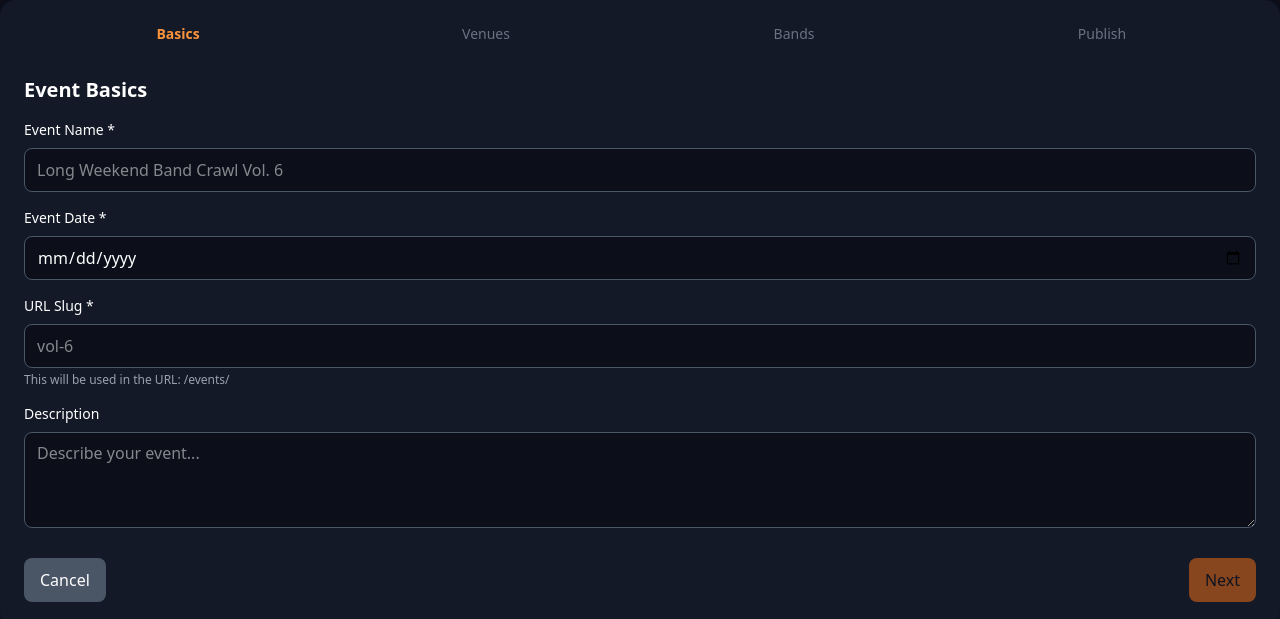
Test: EventWizard › keeps added venues visible when moving between steps
Type "Late Night Crawl" into the field labelled "Event Name *".
click(640, 170); type("Late Night Crawl")  # box [24,148,1256,192]
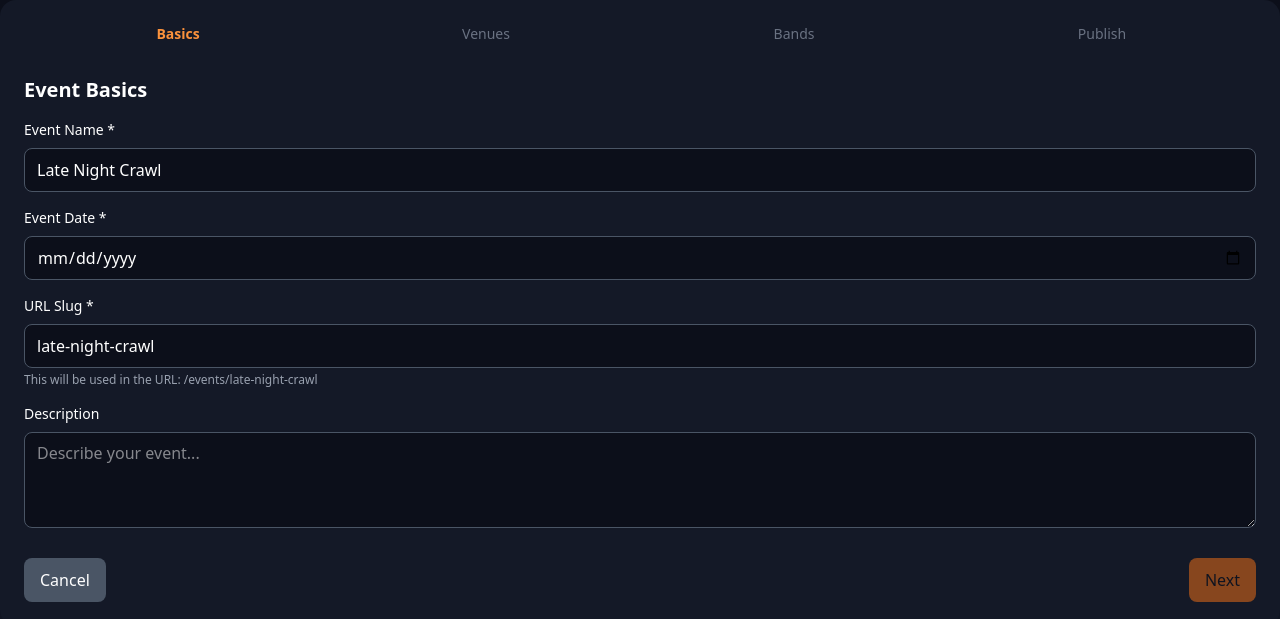
Type "2026-08-03" into the date field labelled "Event Date *".
click(640, 258); type("2026-08-03")  # box [24,236,1256,280]
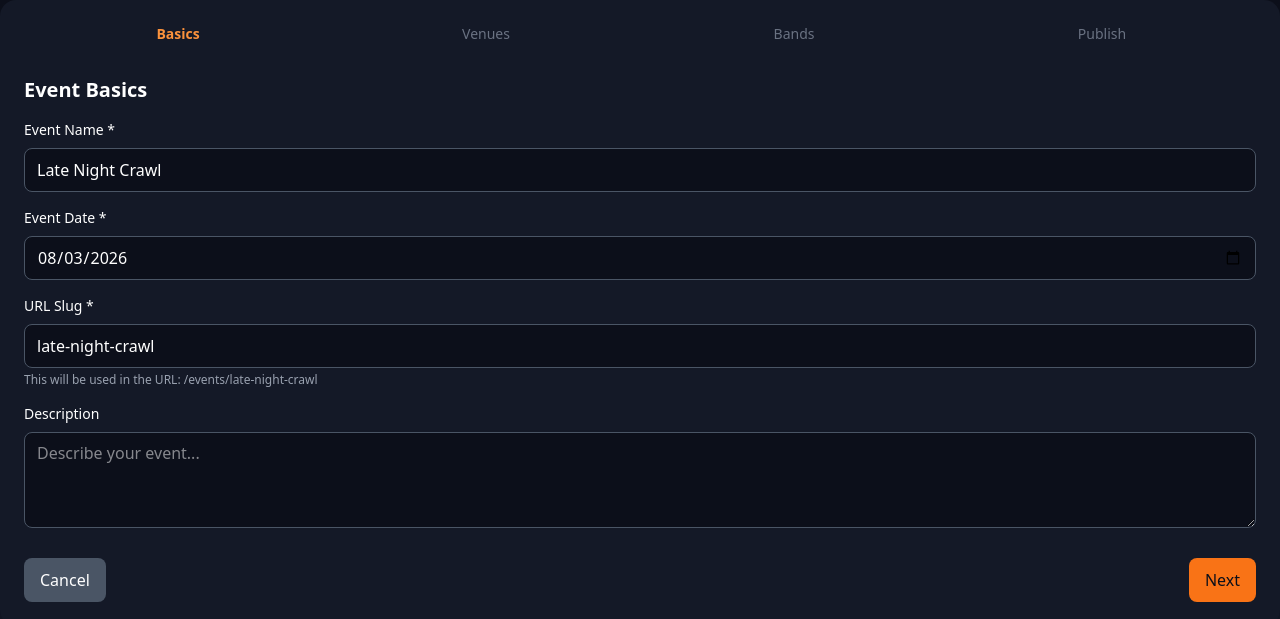
Click the button "Next".
click(1222, 580)  # box [1189,558,1256,602]
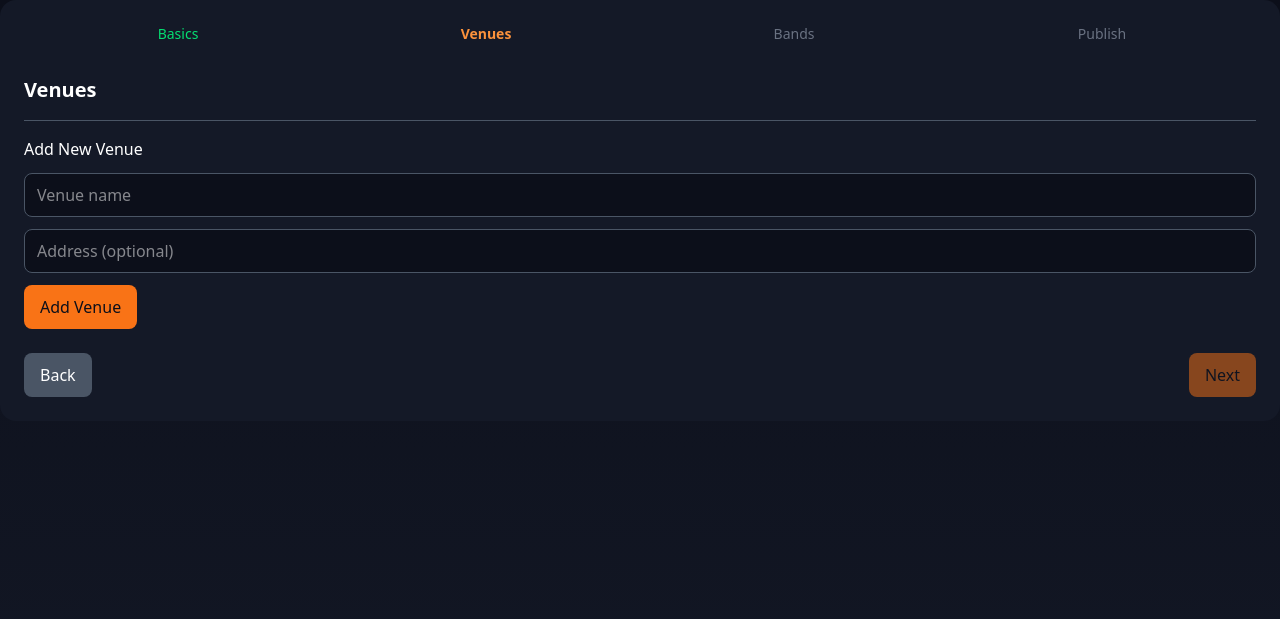
Type "Crystal Ballroom" into the field with placeholder "Venue name".
click(640, 195); type("Crystal Ballroom")  # box [24,173,1256,217]
Type "1332 W Burnside St" into the field with placeholder "Address (optional)".
click(640, 251); type("1332 W Burnside St")  # box [24,229,1256,273]
Click the button "Add Venue".
click(81, 307)  # box [24,285,137,329]
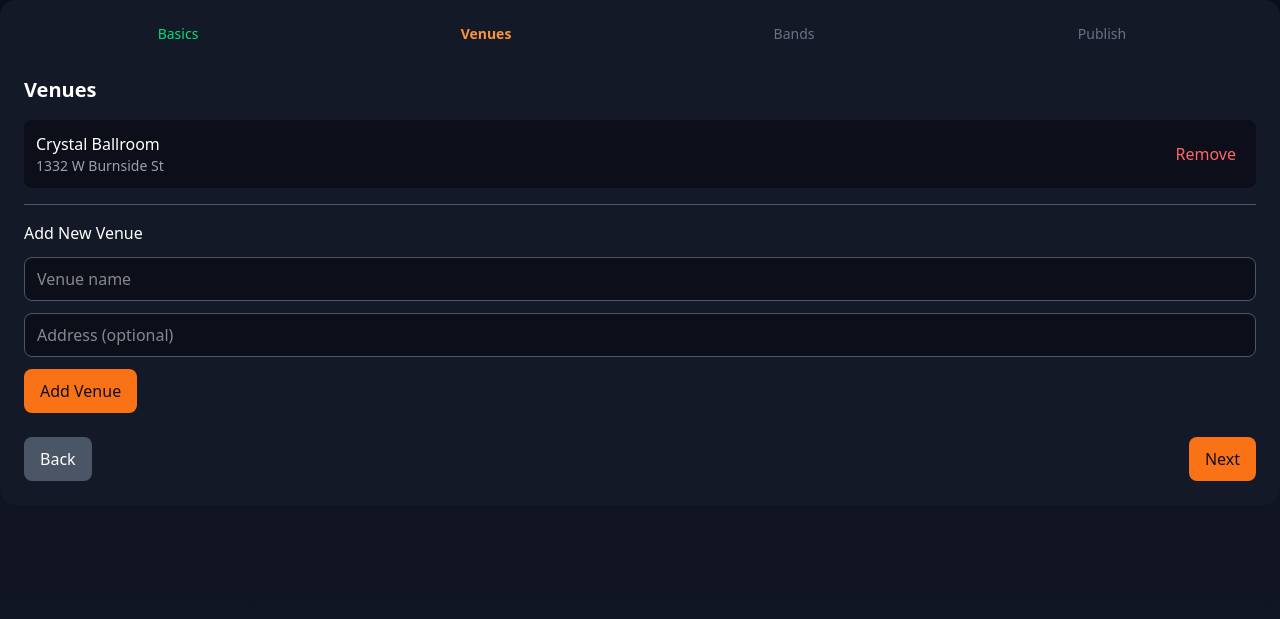
Result: the text "Crystal Ballroom" is shown at [36,132,164,156]
Click the button "Next".
click(1222, 459)  # box [1189,437,1256,481]
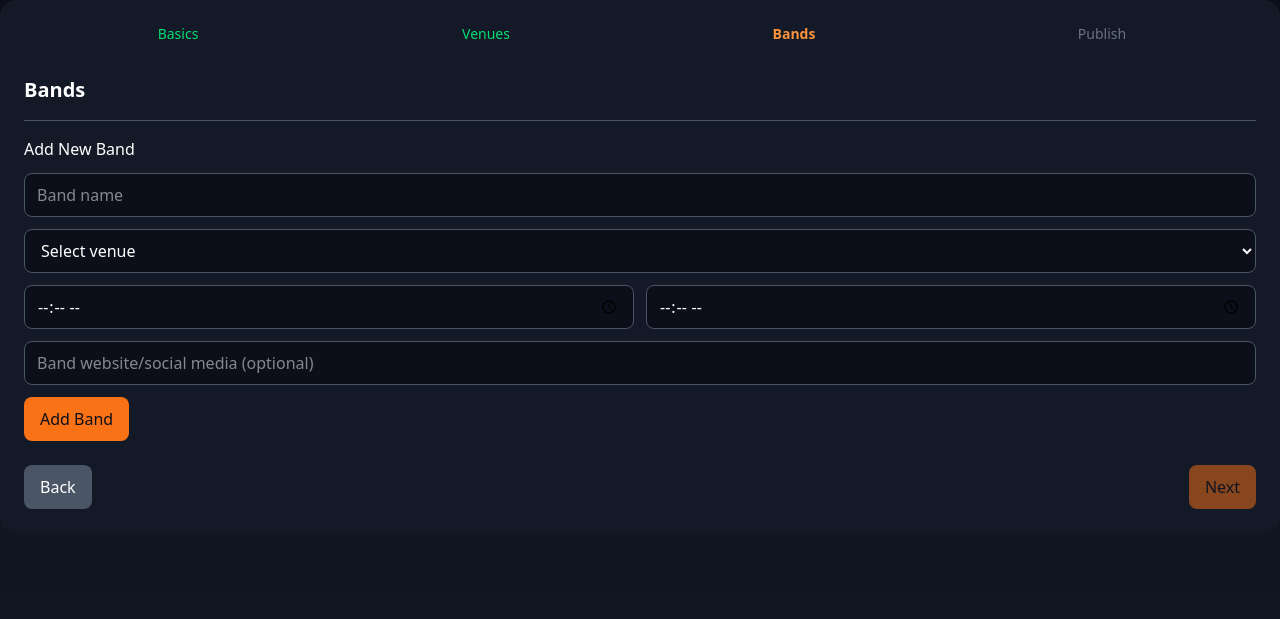
Click the button "Back".
click(58, 487)  # box [24,465,92,509]
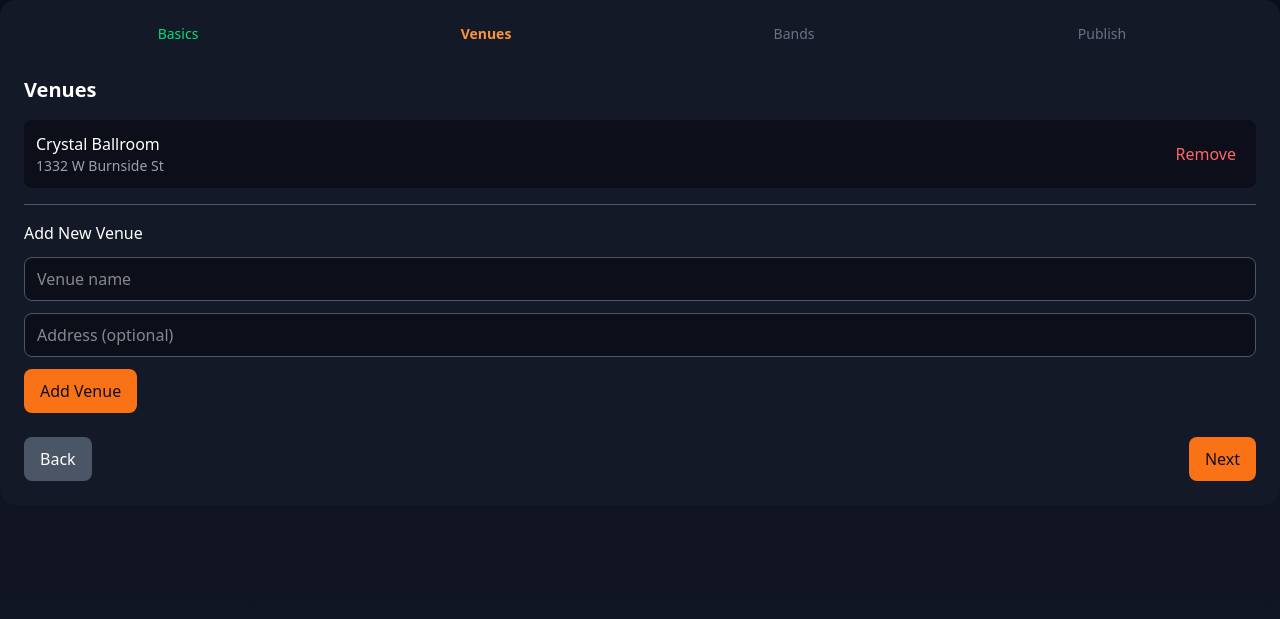
Result: the text "Crystal Ballroom" is shown at [36,132,164,156]
Result: the text "1332 W Burnside St" is shown at [36,156,164,176]
